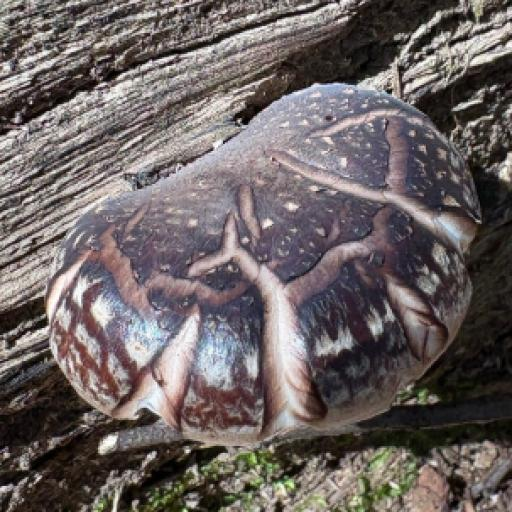Shiitake Mushroom: (9, 2, 512, 512)
